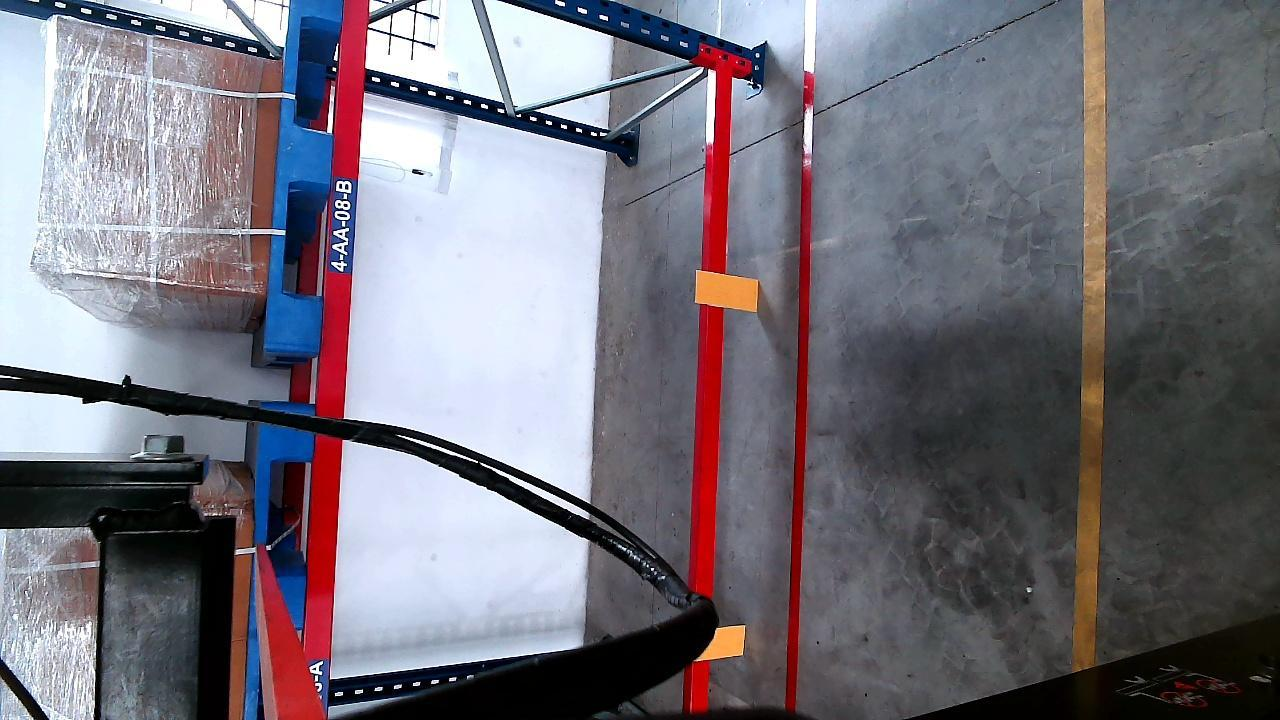red_line: (784, 2, 815, 713)
yellow_line: (1077, 0, 1105, 672)
